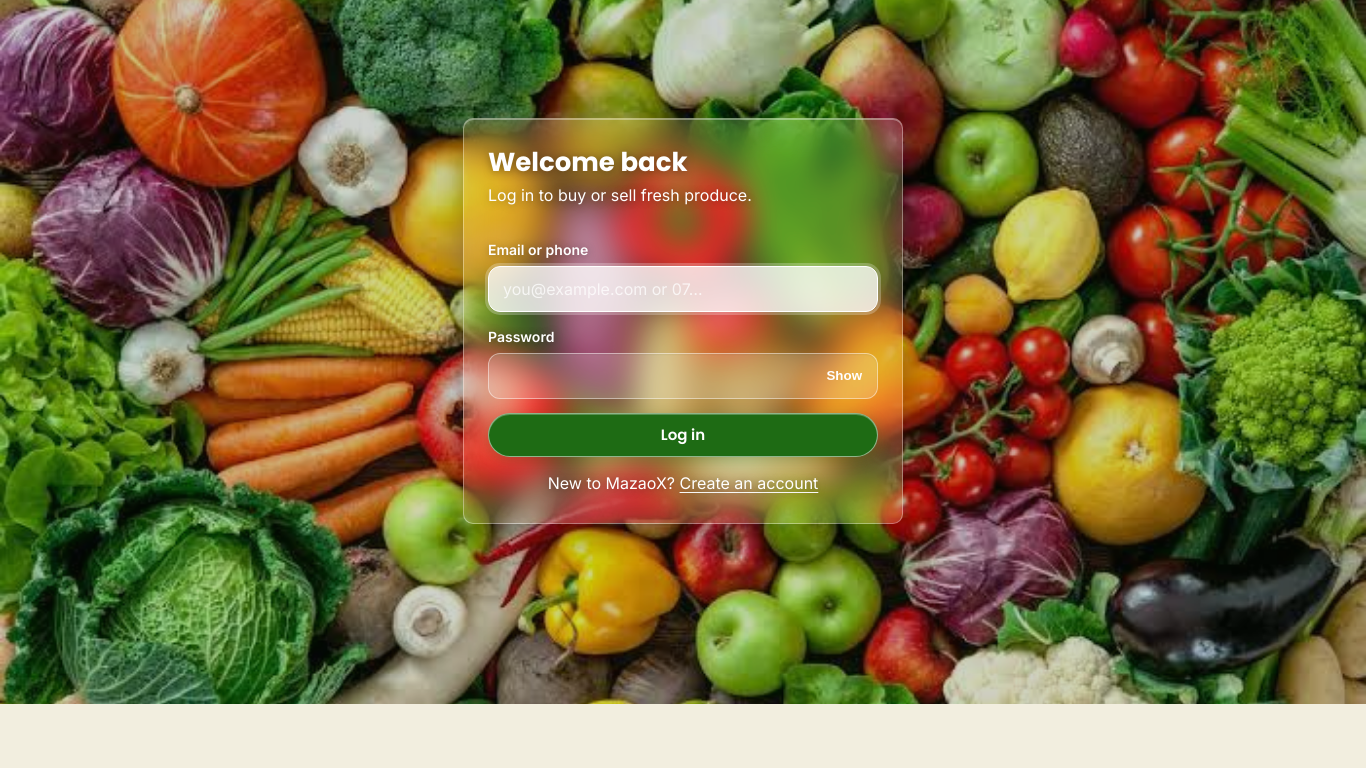
Scenario: auth pages › login shows the server's message for bad credentials and keeps the form
Type "a@example.test" into the field labelled "Email or phone" at (683, 289), box [488,266,878,312]
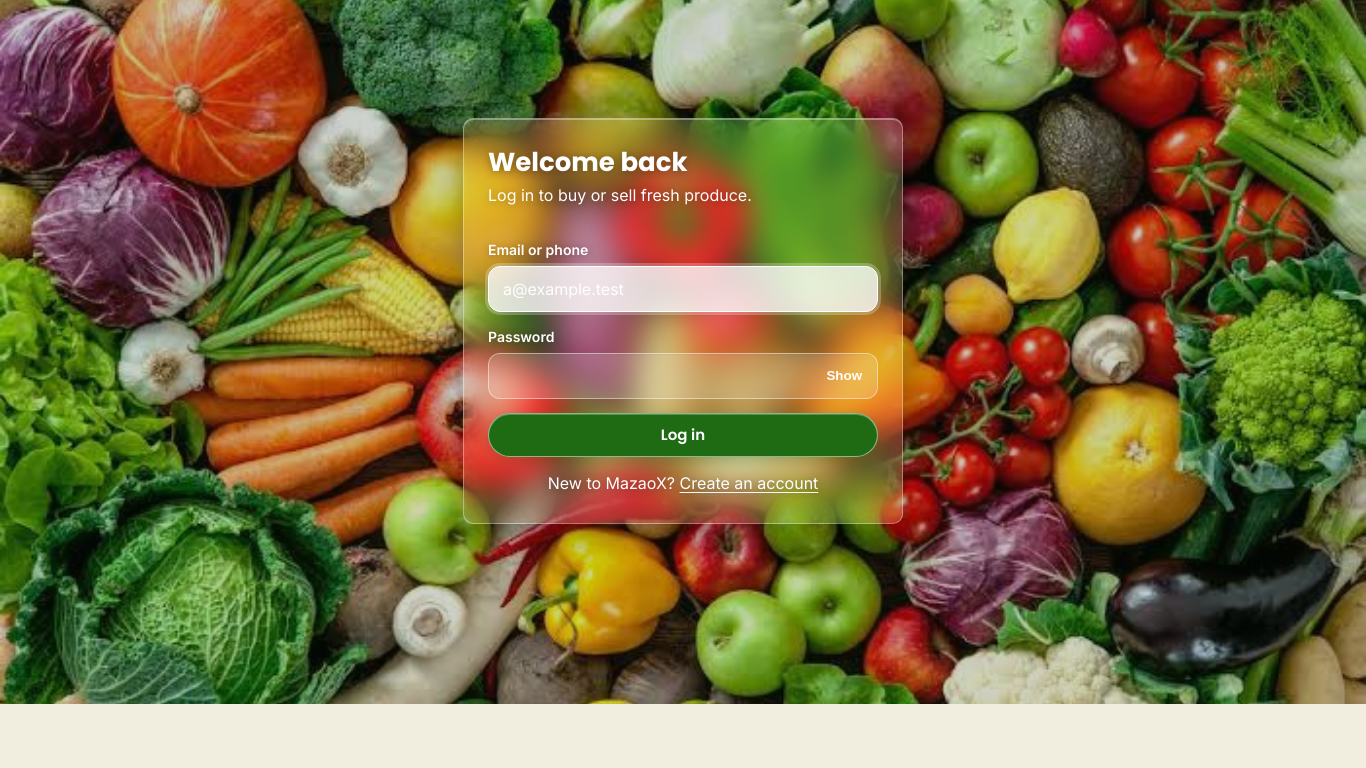
Type "wrong-password" into the password field labelled "Password" at (683, 376), box [488,353,878,399]
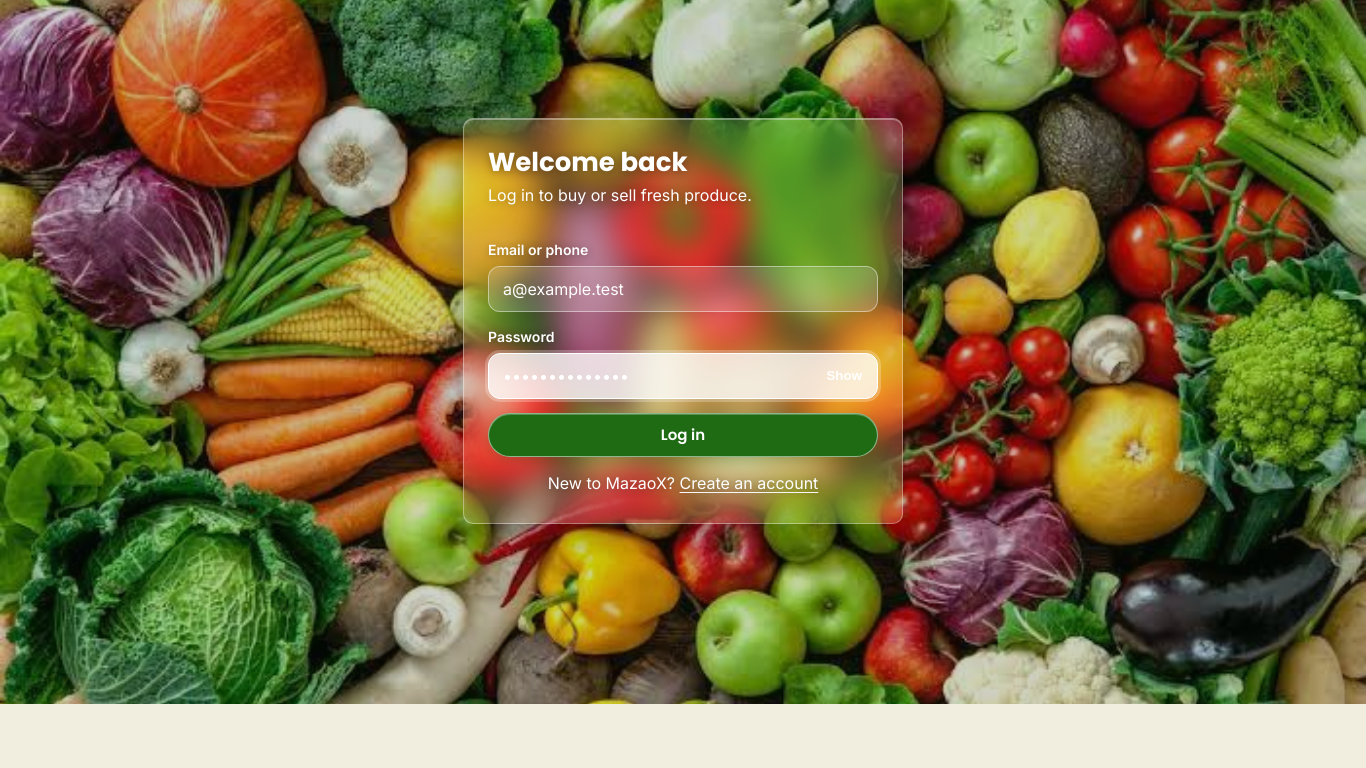
Click the button "Log in" at (683, 435), box [488,413,878,457]
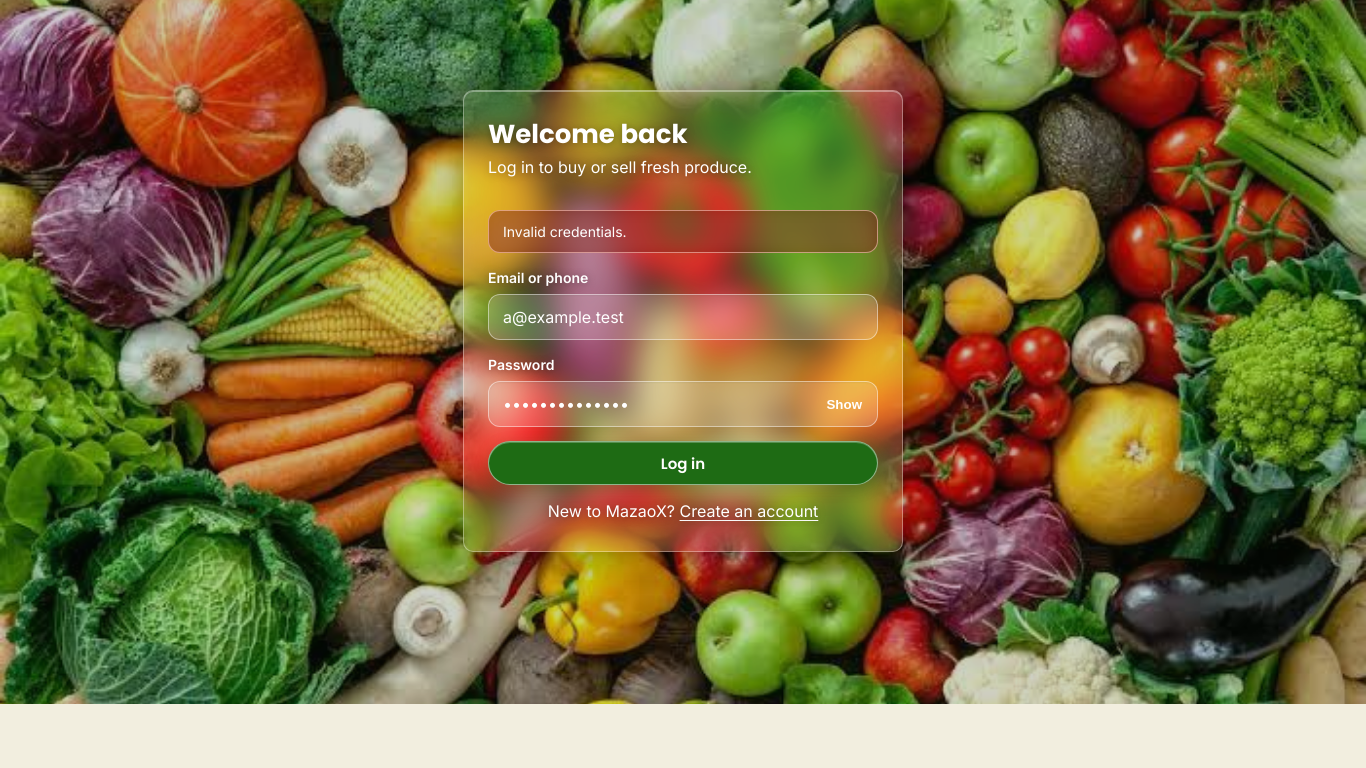
Now the message reads "Invalid credentials.", box [503,223,627,240]
